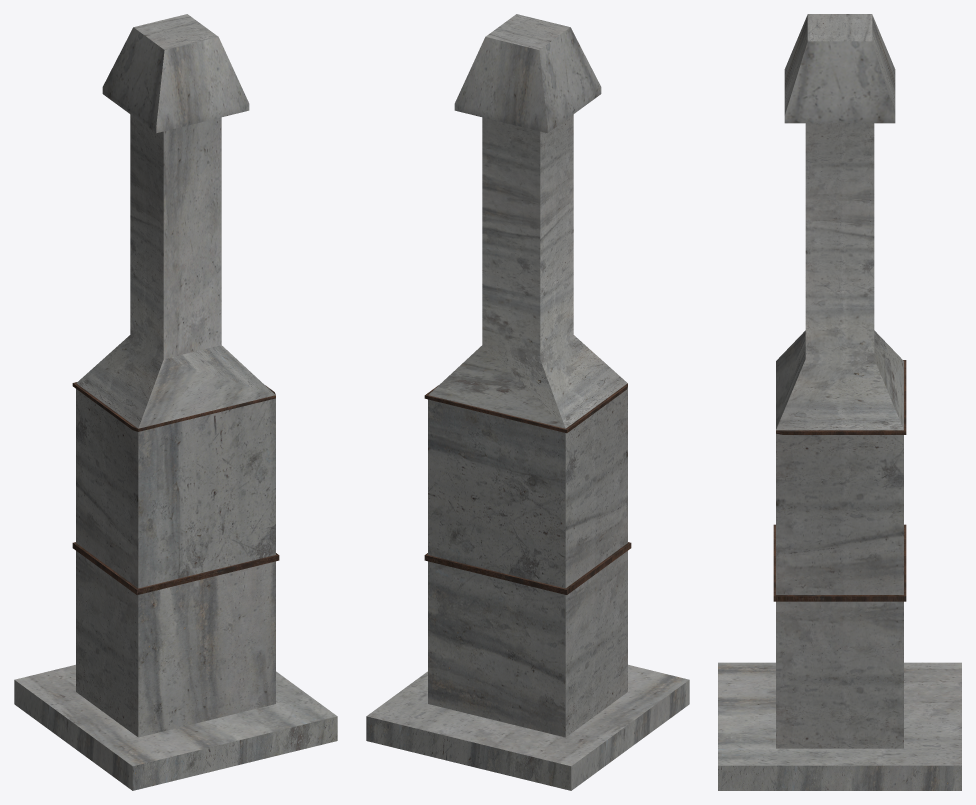
Rendered from Roof_S02.fbx.
3 views of the same model, side by side, from view 1: azimuth 30°, elevation 25°; view 2: azimuth 150°, elevation 25°; view 3: azimuth 270°, elevation 25° (orthographic). The views are drawn at different scales.
Parts seen in each view (by area): view 1: Rf_01 (5); view 2: Rf_01 (5); view 3: Rf_01 (5).
Part boxes in pixels (<box>): Rf_01 (5): <box>14,14,337,790</box>; Rf_01 (5): <box>366,14,689,790</box>; Rf_01 (5): <box>718,14,961,790</box>.
Bounding box in the file's own units: 100 × 322 × 100.
